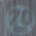Speed limit: (4, 2, 35, 34)
